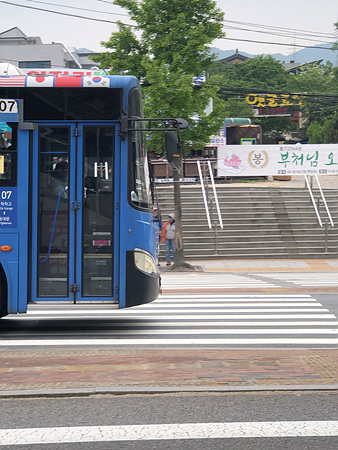entrance: (27, 113, 122, 307)
